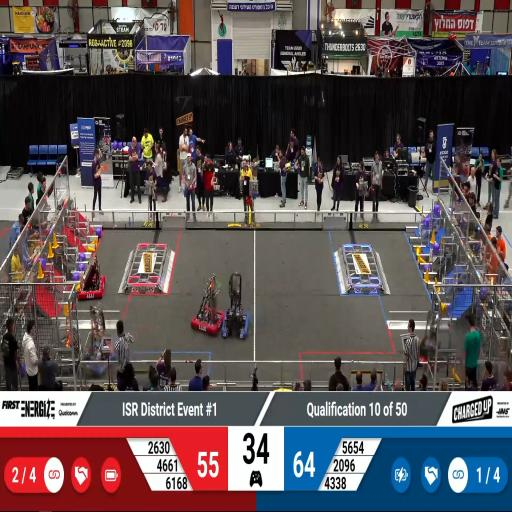robot: (81, 312, 116, 377), (189, 281, 225, 338), (416, 306, 442, 369), (223, 286, 251, 342), (56, 328, 82, 376), (78, 259, 106, 303)
